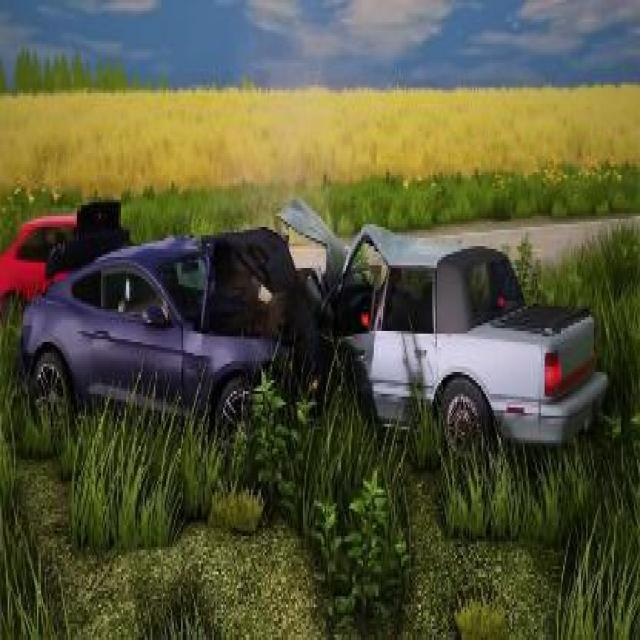accident: (17, 192, 609, 484)
